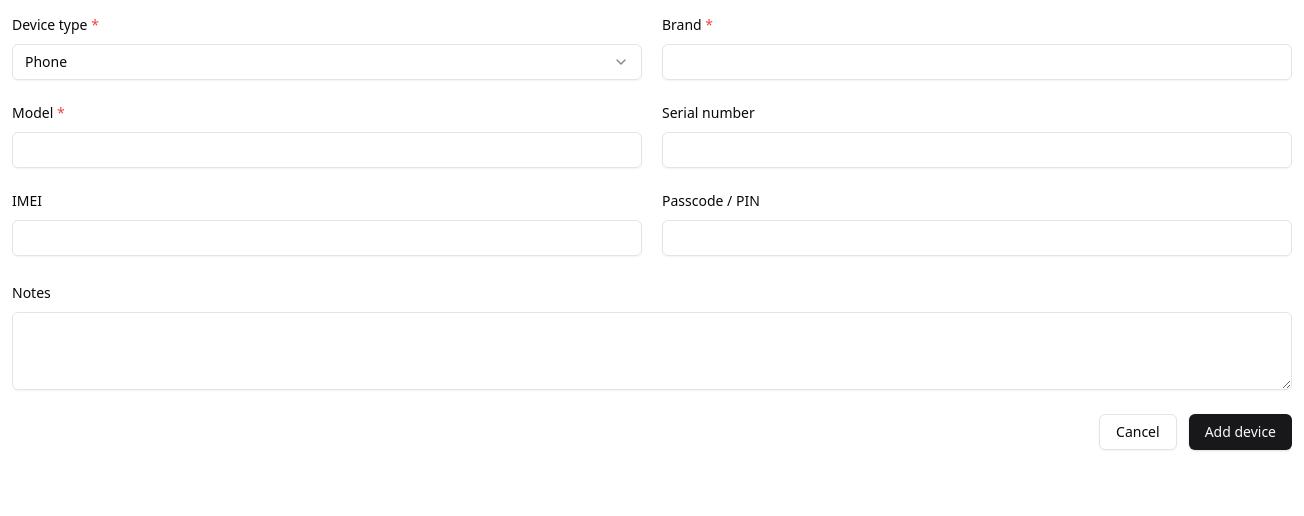
Test: DeviceForm › shows validation errors when required fields are empty
The width and height of the screenshot is (1304, 516).
Click the button "Add device" at (1240,432), box top-left (1189, 414), bottom-right (1292, 450)
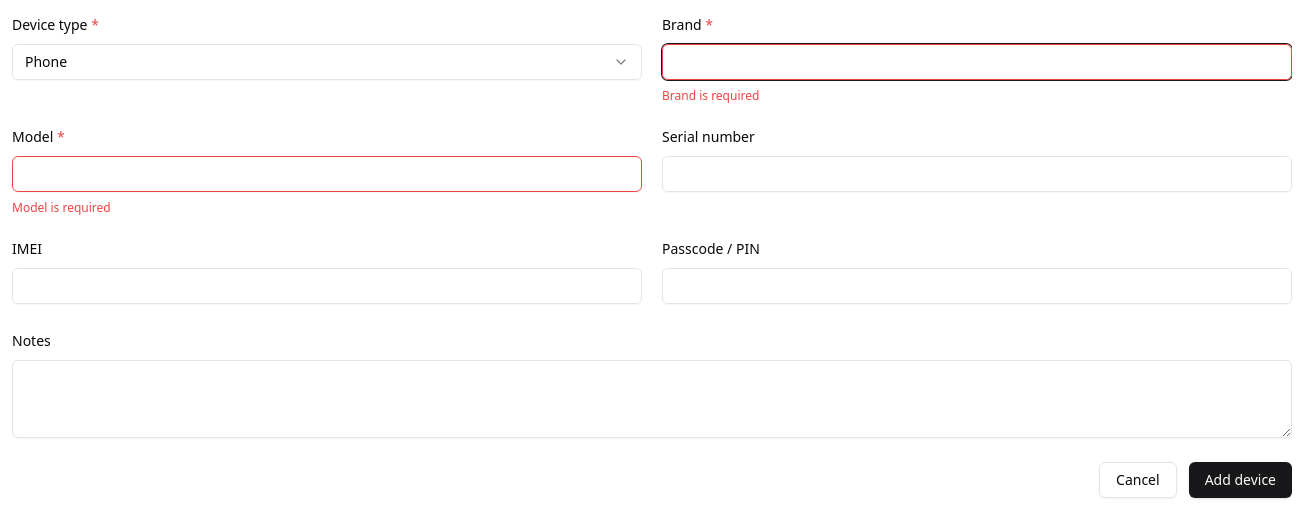
Now the text "Brand is required" is shown, box top-left (662, 87), bottom-right (759, 104)
Now the text "Model is required" is shown, box top-left (12, 199), bottom-right (111, 216)
